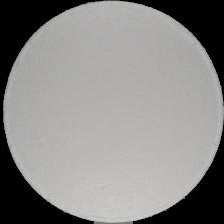68382-001: (0, 0, 224, 224)
